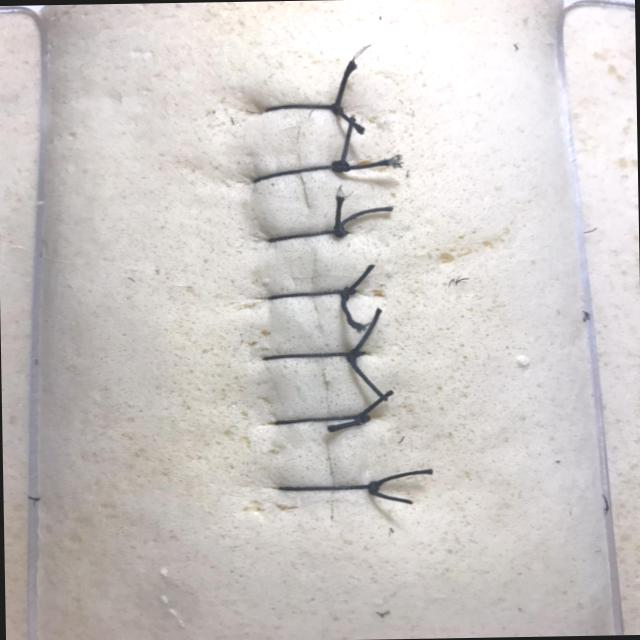knot: (332, 160, 350, 172), (341, 287, 355, 300), (355, 413, 370, 425), (347, 350, 360, 362), (333, 225, 346, 236), (368, 481, 379, 494), (330, 104, 343, 115)
leftover: (346, 351, 389, 403), (333, 206, 394, 232), (350, 306, 382, 355), (354, 388, 394, 420), (370, 469, 434, 489), (331, 58, 356, 109), (331, 105, 366, 134), (340, 289, 364, 330), (365, 484, 414, 504), (345, 262, 375, 294), (337, 114, 355, 167), (324, 415, 370, 432), (332, 159, 391, 168), (332, 194, 342, 232)
stitch: (250, 162, 351, 183), (265, 227, 347, 242), (259, 351, 367, 361), (271, 415, 372, 425), (264, 290, 357, 300), (261, 102, 344, 112), (275, 484, 381, 491)
wound: (291, 95, 336, 525)
